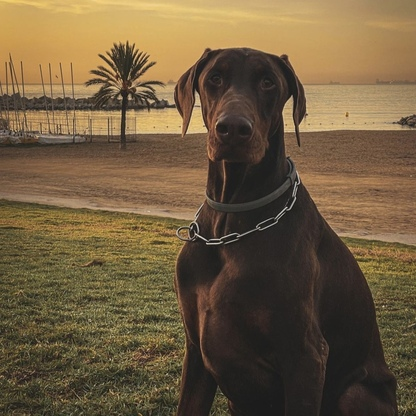doberman: (152, 43, 406, 416)
